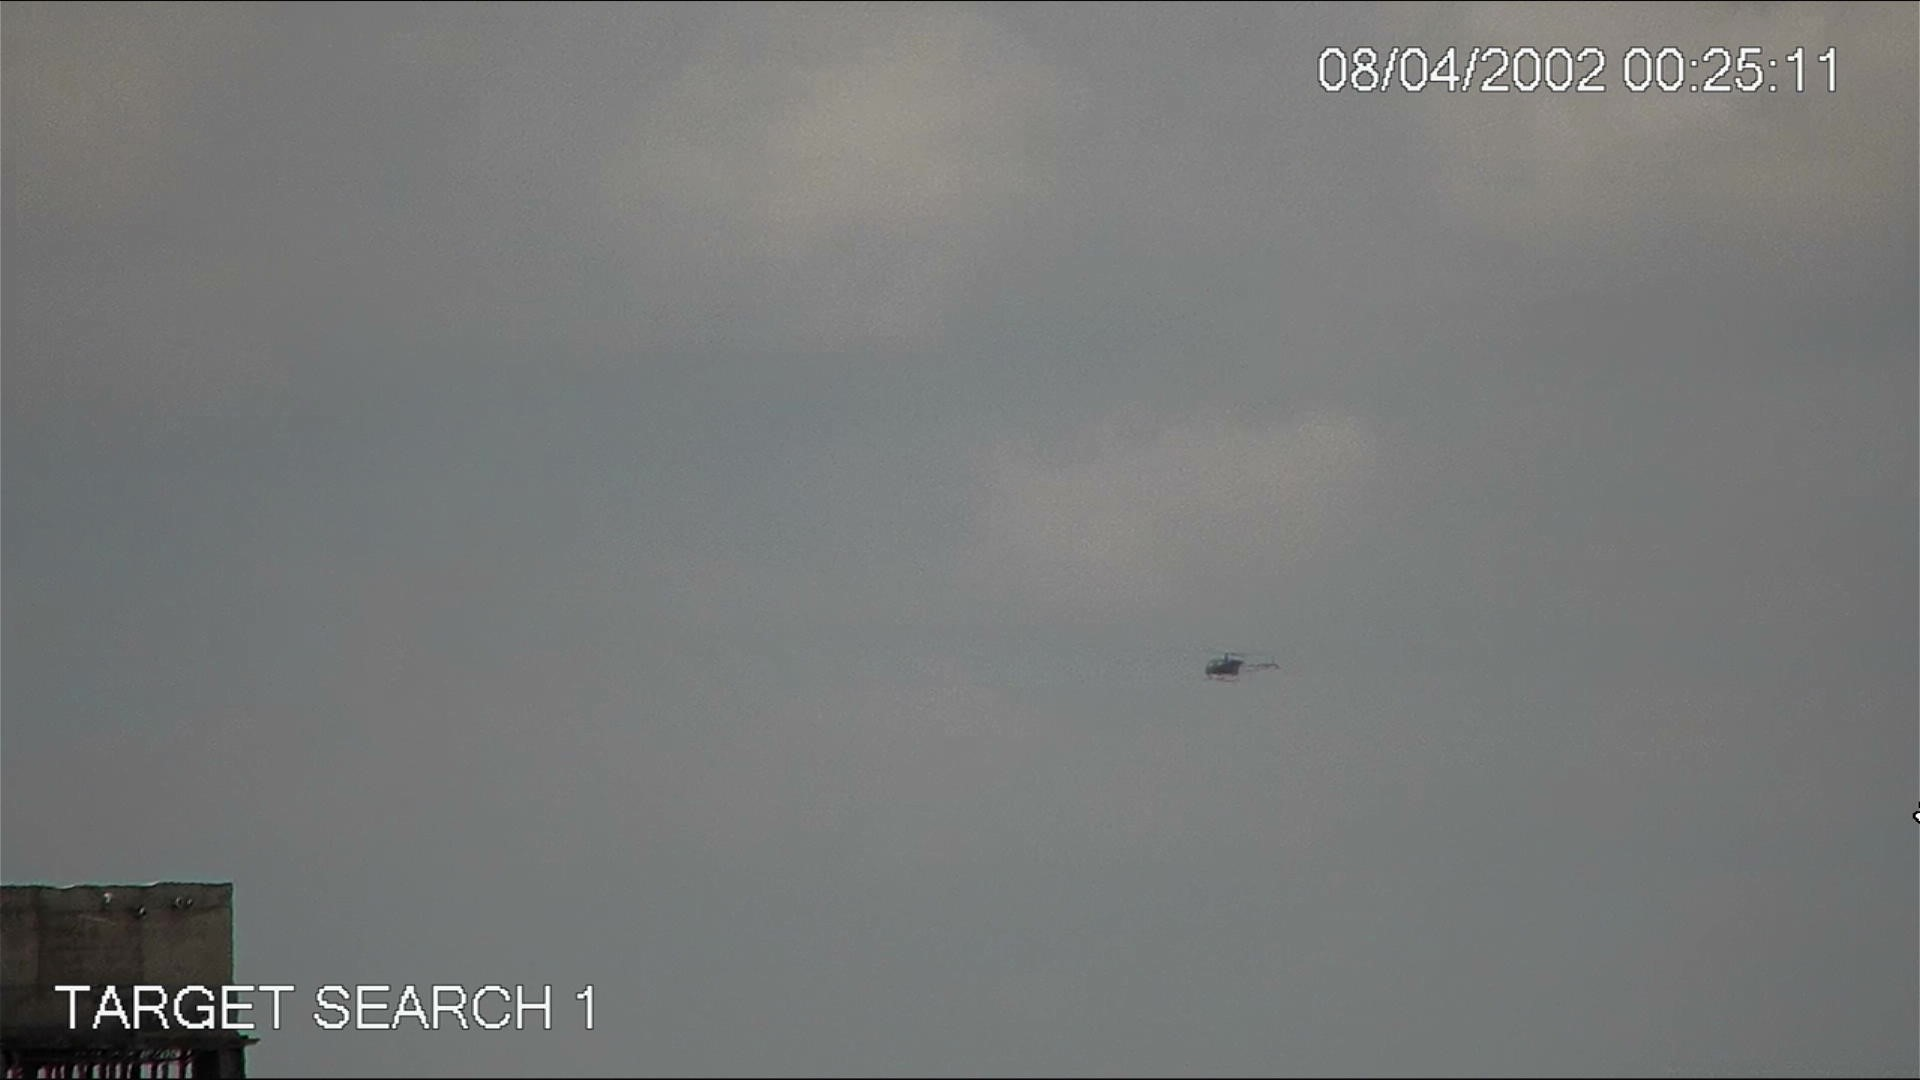SU_30: (1197, 645, 1286, 684)
